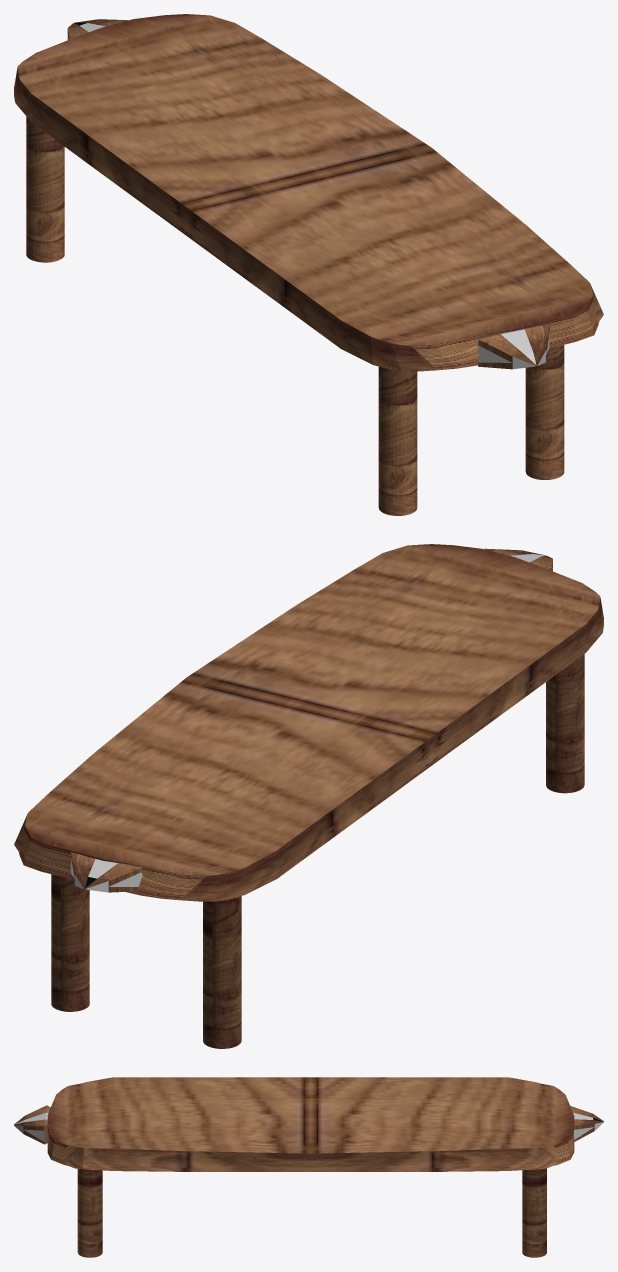
The model's file is mesa_original2 (1).fbx.
3 views of the same model, one above another, from view 1: azimuth 30°, elevation 25°; view 2: azimuth 150°, elevation 25°; view 3: azimuth 270°, elevation 25° (orthographic). The views are drawn at different scales.
Visible parts, largest first — view 1: Cube.001, Cube, Cylinder.001, Cylinder.003, Cylinder, Plano.002; view 2: Cube, Cube.001, Cylinder.003, Cylinder.002, Cylinder.001, Plano.003; view 3: Cube, Cube.001, Cylinder, Cylinder.002, Plano.002, Plano.003.
Part boxes in pixels (x1,y1,x2,y2): Cube.001: (186,147,603,371); Cube: (14,14,430,235); Cylinder.001: (378,366,417,515); Cylinder.003: (26,116,64,262); Cylinder: (525,345,564,479); Plano.002: (478,324,549,369); Cube: (14,677,431,901); Cube.001: (187,544,603,765); Cylinder.003: (203,896,241,1048); Cylinder.002: (51,874,89,1011); Cylinder.001: (546,654,584,793); Plano.003: (70,852,142,892); Cube: (310,1077,574,1171); Cube.001: (47,1077,310,1171); Cylinder: (77,1169,102,1257); Cylinder.002: (522,1168,546,1257); Plano.002: (14,1105,50,1144); Plano.003: (570,1106,603,1141).
Size of the model in its own units: 554 by 397 by 1807.
